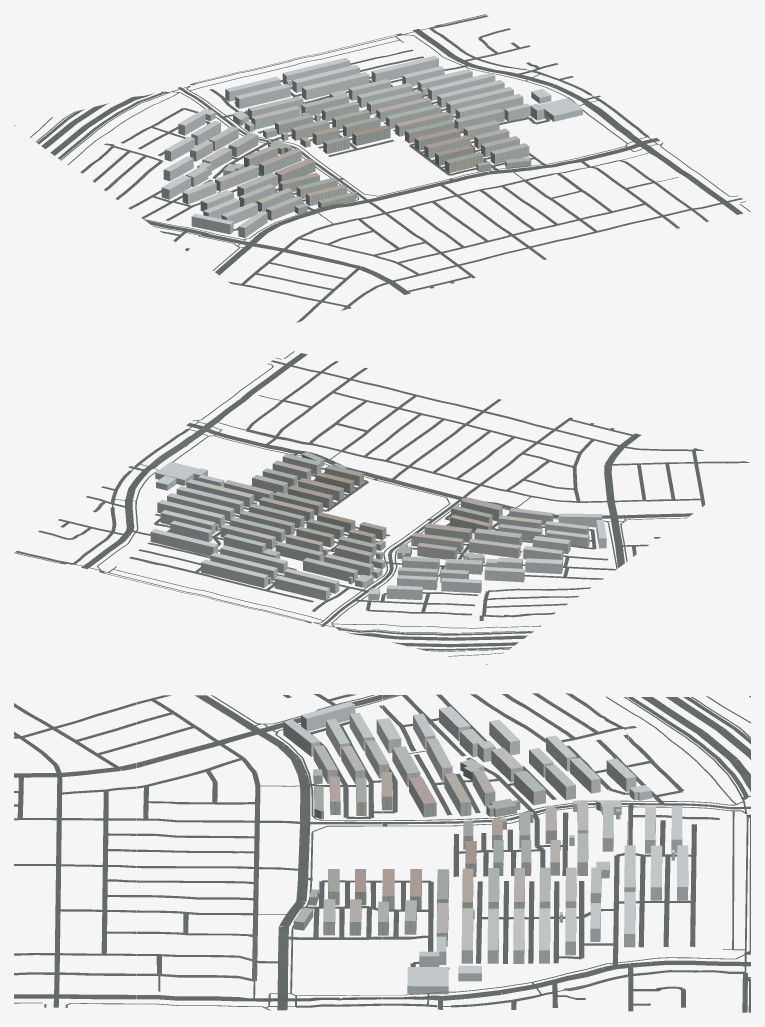
3 renders of one model, top to bottom at view 1: azimuth 30°, elevation 25°; view 2: azimuth 150°, elevation 25°; view 3: azimuth 270°, elevation 25°, orthographic. The views are drawn at different scales.
Visible parts, largest first — view 1: osm-roads, osm-building-525956950, osm-building-525956953, osm-building-525956959, osm-building-525956957, osm-building-525956954, osm-building-525956949, osm-building-525956948, osm-building-525956956, osm-building-525956955, osm-building-476978155, osm-building-525397966 (+20 smaller); view 2: osm-roads, osm-building-525956948, osm-building-525956953, osm-building-525956960, osm-building-525956958, osm-building-525397966, osm-building-525956954, osm-building-525956950, osm-building-525956956, osm-building-525956957, osm-building-525956949, osm-building-525956955 (+19 smaller); view 3: osm-roads, osm-building-476978155, osm-building-525397983, osm-building-525397977, osm-building-525397972, osm-building-525397974, osm-building-525397967, osm-building-525397992, osm-building-525397962, osm-building-502274932, osm-building-525397961, osm-building-525956953 (+22 smaller).
Boxes of the visible parts, x1,y1,x2,y2 form: osm-roads: [14, 14, 750, 322]; osm-building-525956950: [302, 72, 369, 99]; osm-building-525956953: [371, 55, 438, 82]; osm-building-525956959: [235, 84, 290, 108]; osm-building-525956957: [455, 94, 523, 118]; osm-building-525956954: [427, 73, 495, 100]; osm-building-525956949: [292, 65, 359, 92]; osm-building-525956948: [282, 57, 349, 84]; osm-building-525956956: [446, 87, 513, 114]; osm-building-525956955: [437, 80, 504, 107]; osm-building-476978155: [539, 98, 582, 121]; osm-building-525397966: [215, 164, 258, 191]; osm-roads: [14, 351, 749, 664]; osm-building-525956948: [201, 559, 268, 587]; osm-building-525956953: [150, 529, 217, 556]; osm-building-525956960: [274, 575, 329, 600]; osm-building-525956958: [303, 557, 357, 582]; osm-building-525397966: [468, 539, 520, 558]; osm-building-525956954: [157, 499, 224, 527]; osm-building-525956950: [220, 545, 287, 573]; osm-building-525956956: [176, 486, 243, 514]; osm-building-525956957: [186, 479, 253, 507]; osm-building-525956949: [210, 552, 277, 580]; osm-building-525956955: [167, 493, 234, 521]; osm-roads: [14, 693, 750, 1012]; osm-building-476978155: [407, 967, 448, 994]; osm-building-525397983: [301, 701, 355, 731]; osm-building-525397977: [409, 776, 436, 817]; osm-building-525397972: [459, 729, 495, 762]; osm-building-525397974: [514, 770, 545, 805]; osm-building-525397967: [444, 773, 471, 816]; osm-building-525397992: [283, 719, 320, 756]; osm-building-525397962: [545, 764, 575, 800]; osm-building-502274932: [570, 758, 600, 793]; osm-building-525397961: [489, 719, 519, 755]; osm-building-525956953: [624, 892, 635, 947].
Bounding box in the file's own units: 720 × 21.79 × 720.
Materials: 8 (1 with a texture image).
